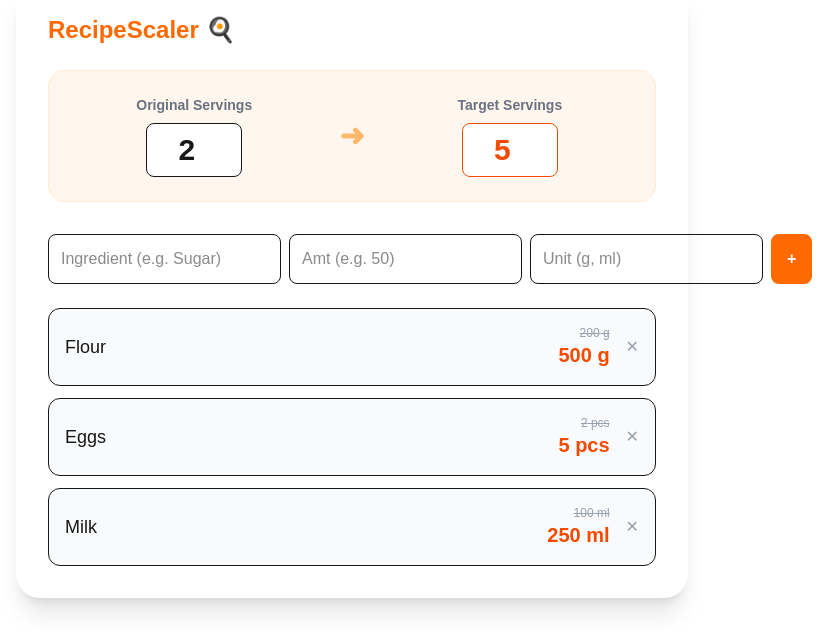
Test: Recipe Scaler Micro-App › Scaler Component & Scaling Calculations › recalculates scaled amounts when base servings change
The width and height of the screenshot is (829, 632).
Replace the text in the number field below "Original Servings" with "4" at (194, 150), box [146,123,242,177]
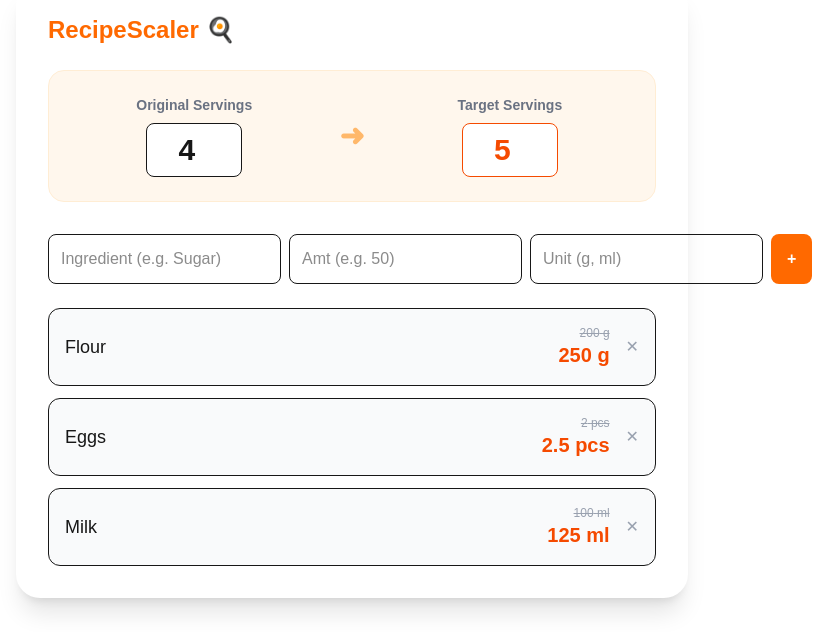
expect the text "250 g" is shown: met, box [558,341,610,369]
expect the text "2.5 pcs" is shown: met, box [542,431,610,459]
expect the text "125 ml" is shown: met, box [547,521,610,549]
